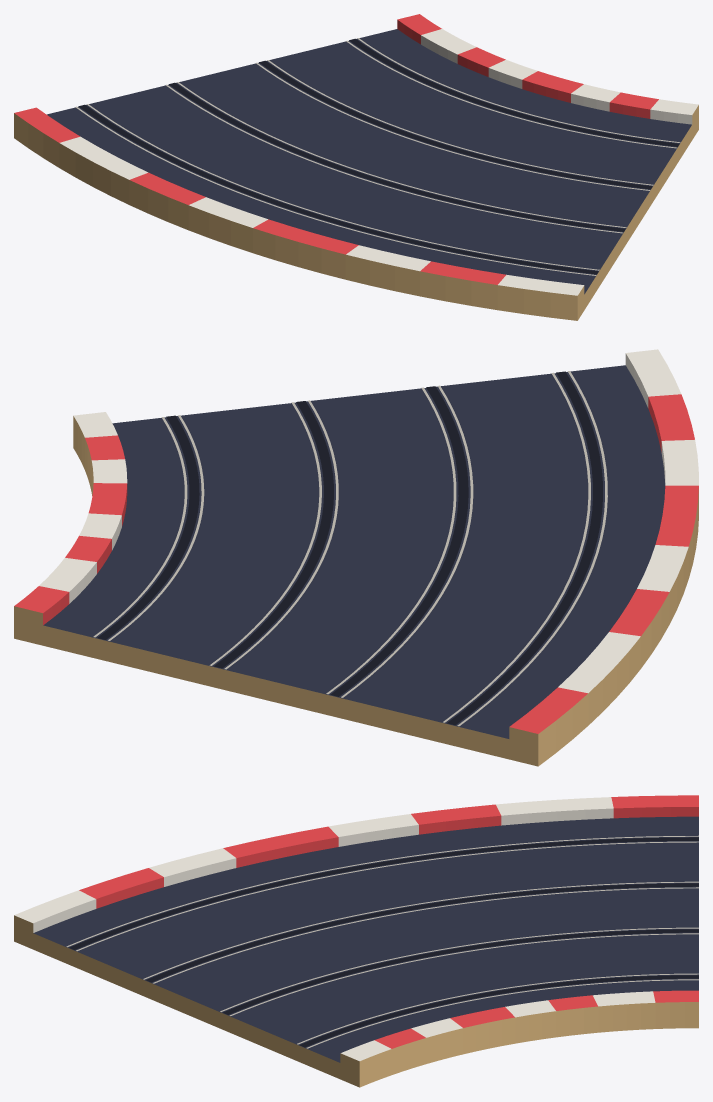
The model's file is Track_4L_Curve45_L.fbx.
3 views of the same model, one above another, from view 1: azimuth 30°, elevation 25°; view 2: azimuth 150°, elevation 25°; view 3: azimuth 270°, elevation 25° (orthographic). The views are drawn at different scales.
Visible parts, largest first — view 1: Track_4L_Curve45_L; view 2: Track_4L_Curve45_L; view 3: Track_4L_Curve45_L.
Part boxes in pixels (bbox=[...]): Track_4L_Curve45_L: bbox=[14, 14, 698, 320]; Track_4L_Curve45_L: bbox=[14, 349, 698, 766]; Track_4L_Curve45_L: bbox=[14, 795, 698, 1087].
Size of the model in its own units: 6.95 by 0.32 by 7.57.
